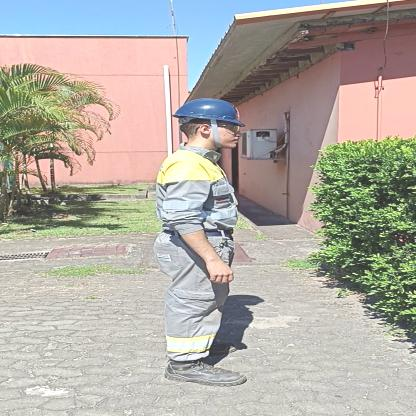Capacete: (176, 96, 250, 122)
